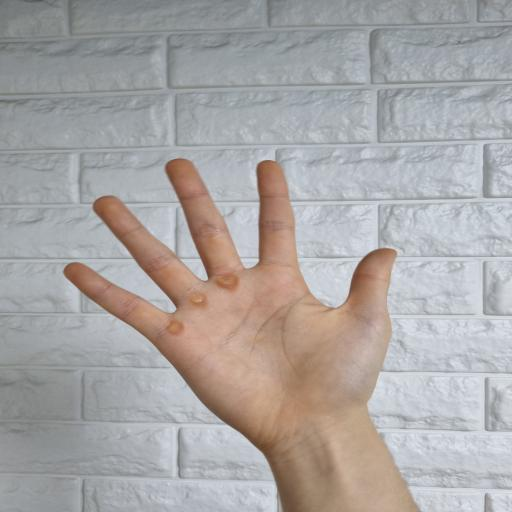Paper: (62, 157, 421, 512)
